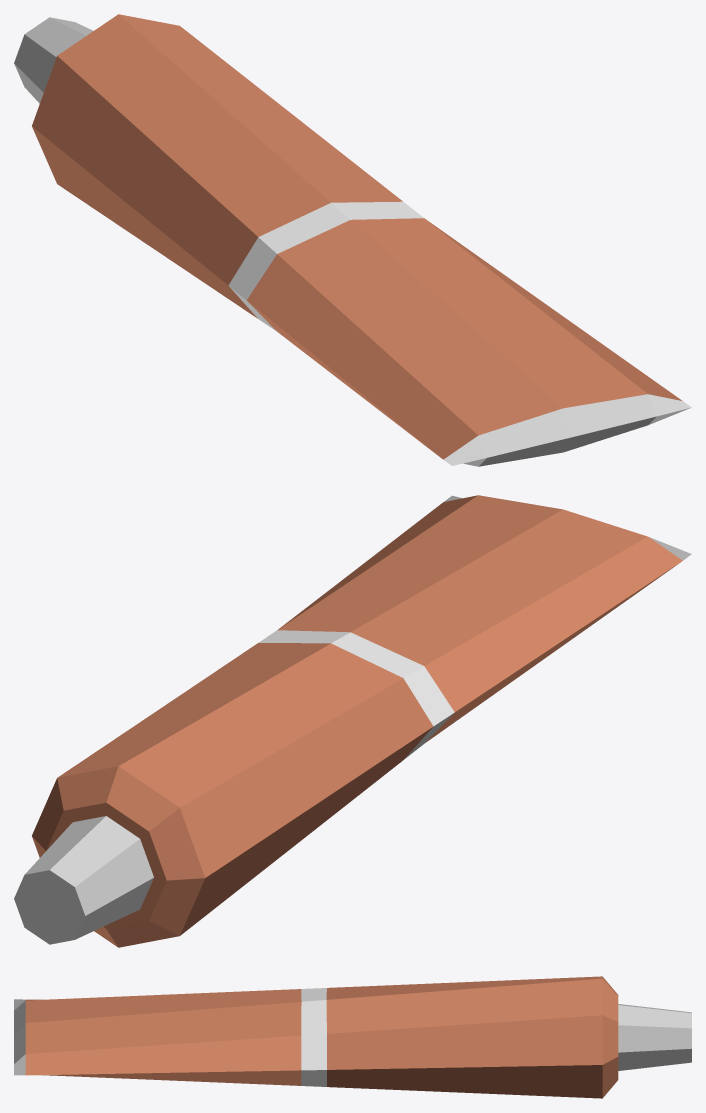
The model's file is Toothpaste_02.fbx.
3 renders of one model, top to bottom at view 1: azimuth 30°, elevation 25°; view 2: azimuth 150°, elevation 25°; view 3: azimuth 270°, elevation 25°, orthographic. The views are drawn at different scales.
Parts seen in each view (by area): view 1: Toothpaste_02; view 2: Toothpaste_02; view 3: Toothpaste_02.
Boxes of the visible parts, left/top/right/bottom form: Toothpaste_02: left=14, top=14, right=691, bottom=466; Toothpaste_02: left=14, top=495, right=691, bottom=947; Toothpaste_02: left=14, top=976, right=691, bottom=1098.
Bounding box in the file's own units: 5.41 × 3.92 × 20.42.
